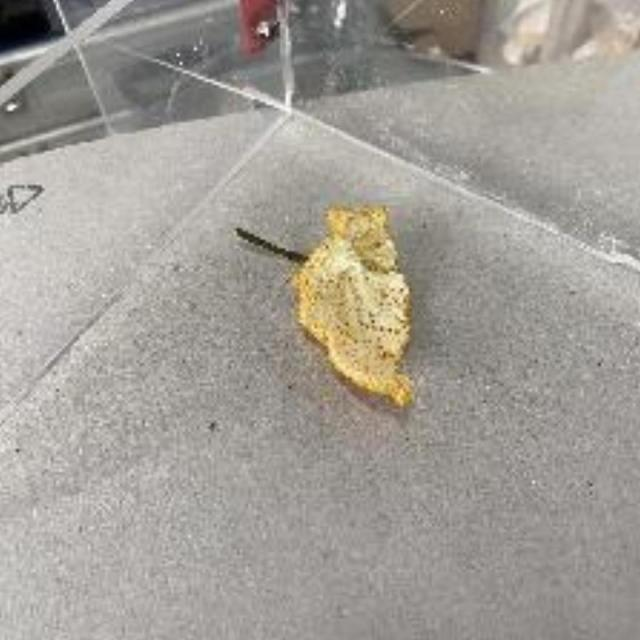orange-peel: (296, 196, 424, 409)
